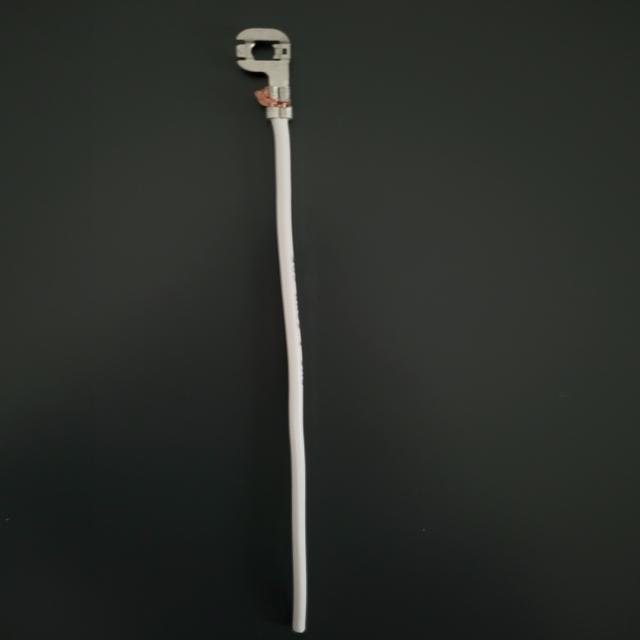defect: (234, 76, 320, 133)
